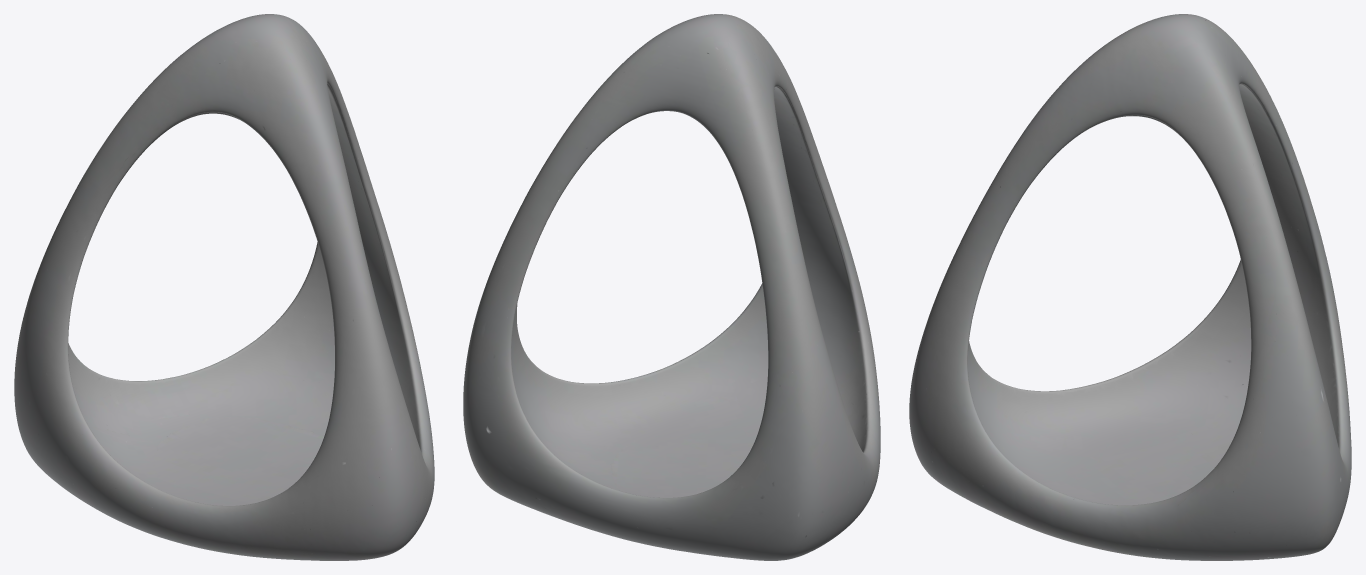
3 views of the same model, side by side, from view 1: azimuth 30°, elevation 25°; view 2: azimuth 150°, elevation 25°; view 3: azimuth 270°, elevation 25° (orthographic).
Parts seen in each view (by area): view 1: node_0; view 2: node_0; view 3: node_0.
Boxes of the visible parts, left/top/right/bottom form: node_0: left=14, top=14, right=434, bottom=560; node_0: left=463, top=14, right=880, bottom=560; node_0: left=909, top=14, right=1351, bottom=560.
Size of the model in its own units: 0.7289 by 0.9099 by 0.7551.
1 material, 1 textured.
